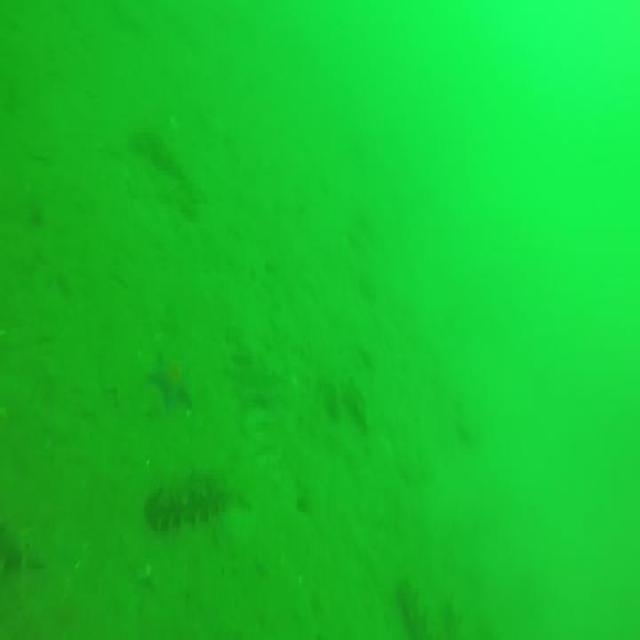holothurian: (144, 464, 247, 532)
starfish: (146, 348, 194, 412)
